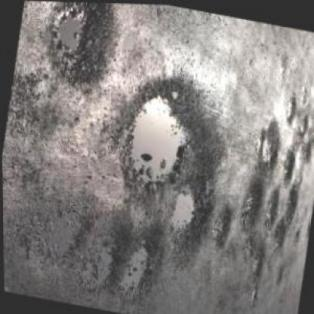Hueco: (111, 65, 227, 205), (4, 194, 94, 275), (160, 183, 214, 272), (75, 214, 130, 298), (113, 219, 165, 303), (233, 171, 267, 230), (254, 114, 284, 172), (237, 229, 272, 278), (208, 199, 235, 251), (278, 144, 298, 184), (280, 181, 300, 219), (267, 214, 288, 250), (282, 94, 298, 122), (301, 139, 313, 159), (300, 111, 308, 132), (310, 118, 313, 139)
